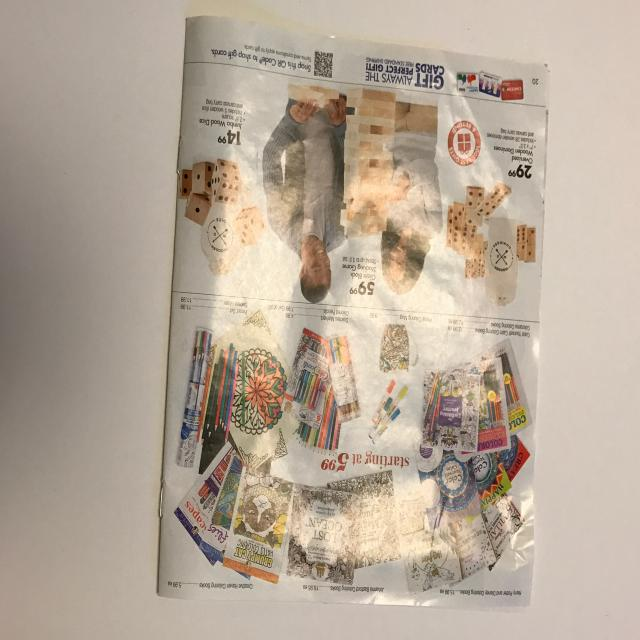Paper: (157, 16, 556, 606)
